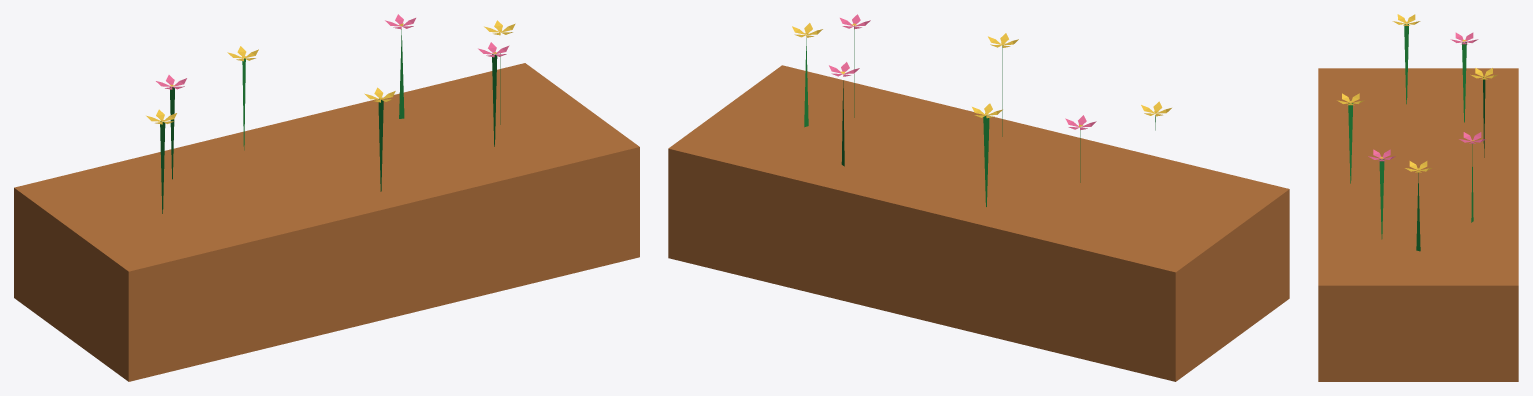
The model's file is planter_box_large.fbx.
The picture shows the model from 3 angles, left to right: view 1: azimuth 30°, elevation 25°; view 2: azimuth 150°, elevation 25°; view 3: azimuth 270°, elevation 25°; orthographic projection. The views are drawn at different scales.
Visible parts, largest first — view 1: planter_box_large; view 2: planter_box_large; view 3: planter_box_large.
Part boxes in pixels (left/top/right/bottom): planter_box_large: left=14, top=14, right=639, bottom=381; planter_box_large: left=668, top=14, right=1289, bottom=381; planter_box_large: left=1318, top=14, right=1518, bottom=381.
Size of the model in its own units: 1.8 by 0.7 by 0.7.
